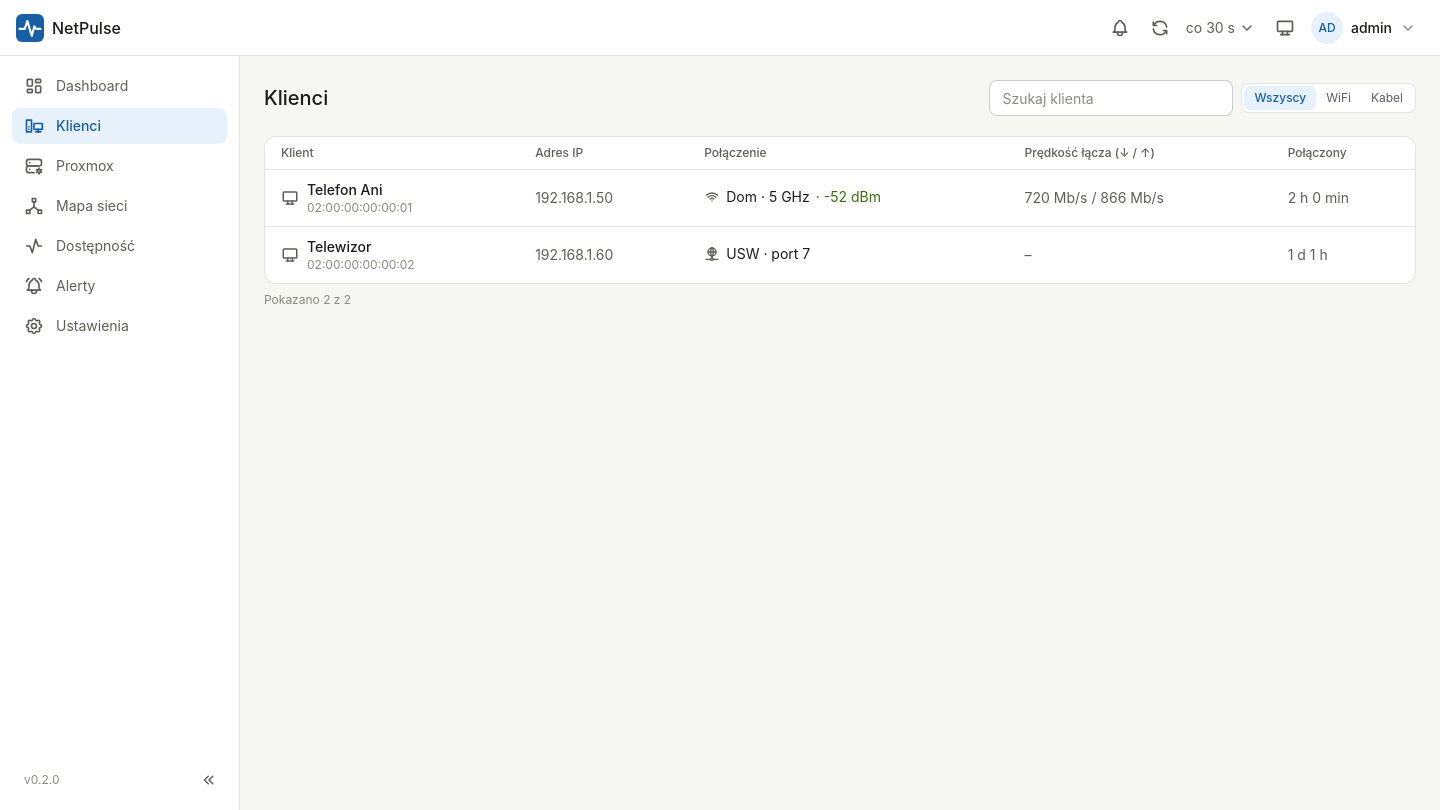
strona Klienci › filtruje po rodzaju połączenia i po wyszukiwanej frazie
Expected: the row "Telewizor" is shown, [265,226,1415,283]
Click the button "WiFi": (1339, 98) [1316,86,1361,110]
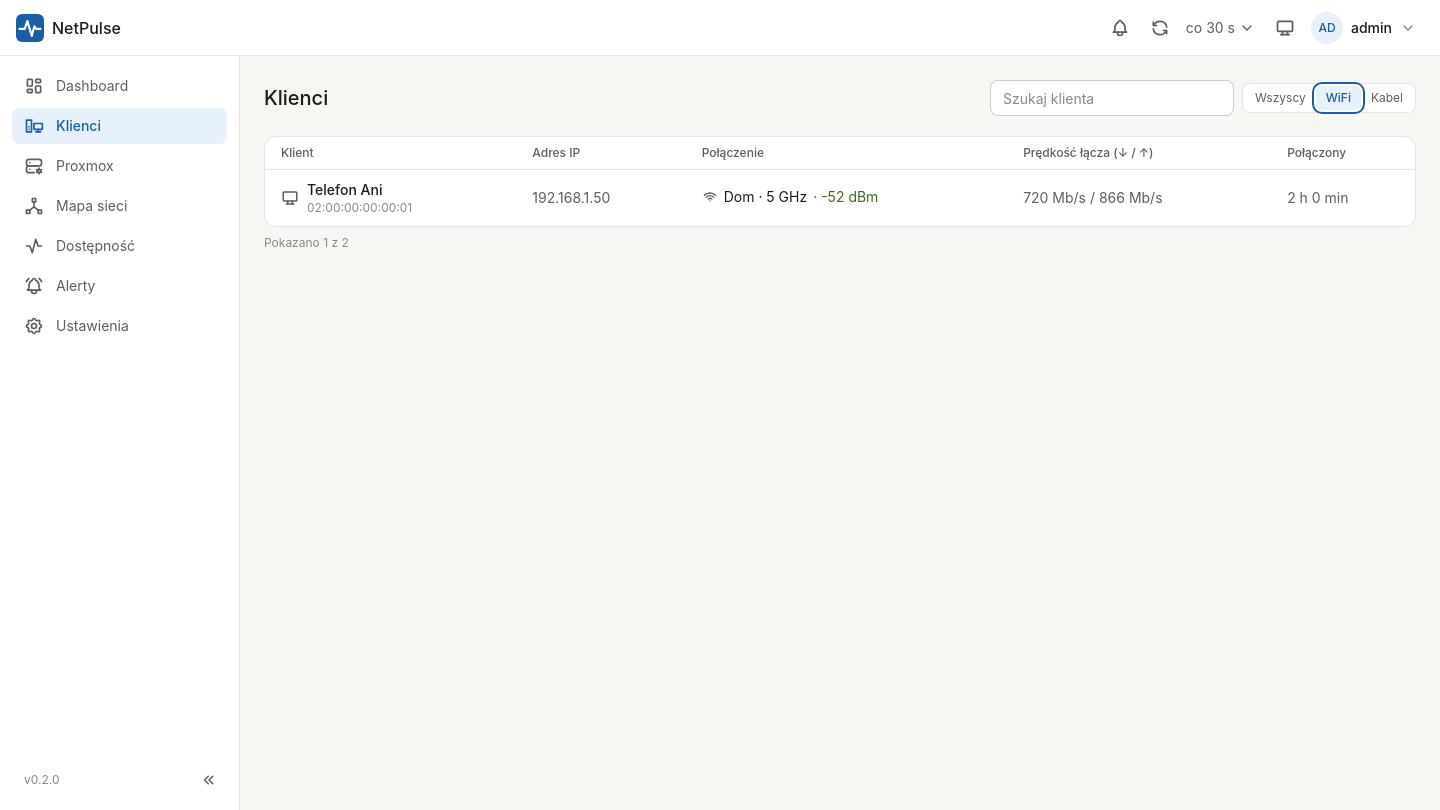
Expected: the row "Telefon Ani" is shown, [265,170,1415,226]
Expected: the link "Telewizor" is gone
Click the button "Wszyscy": (1280, 98) [1245,86,1316,110]
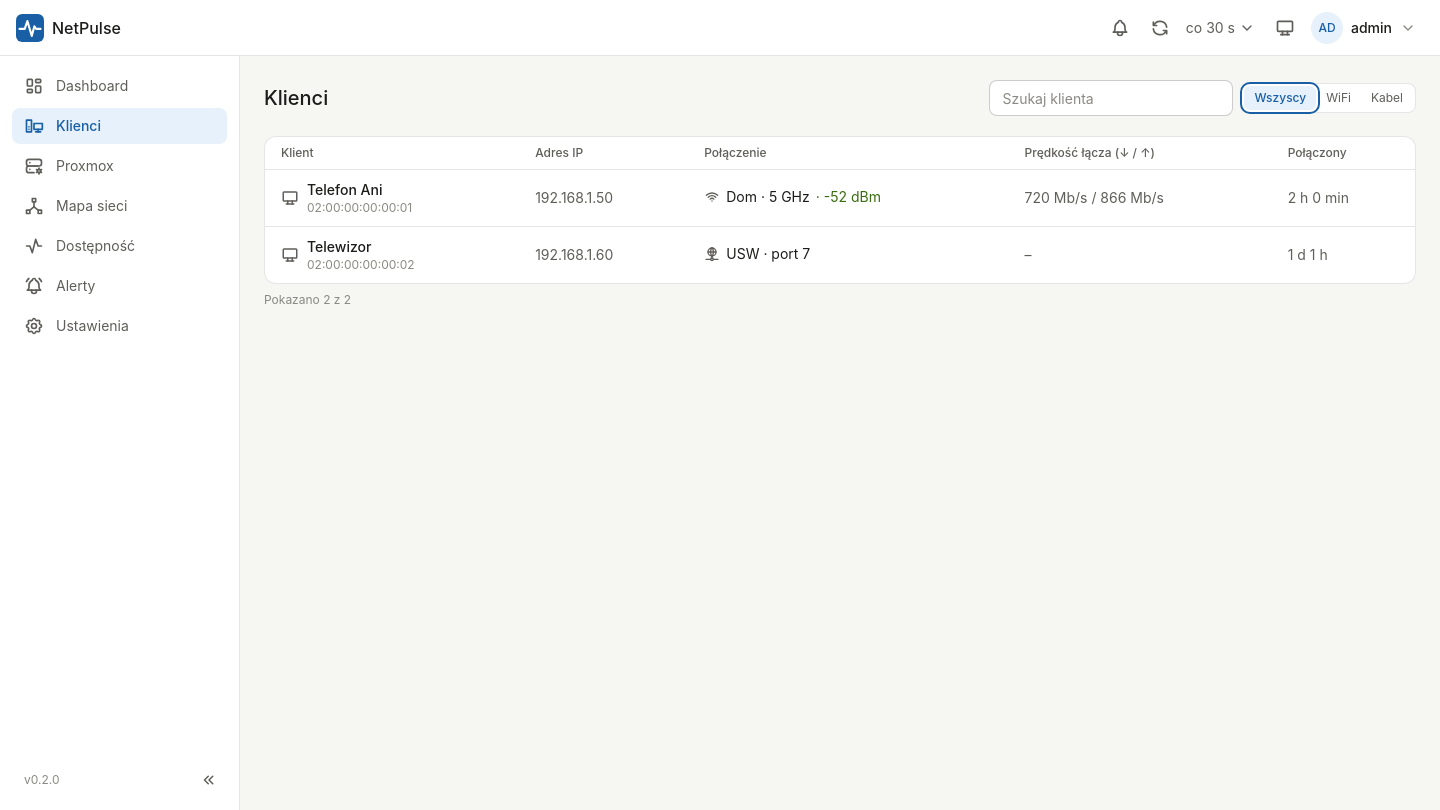
In the search field labelled "Szukaj klienta": (1111, 98) [989,80,1233,116], type "192.168.1.60"
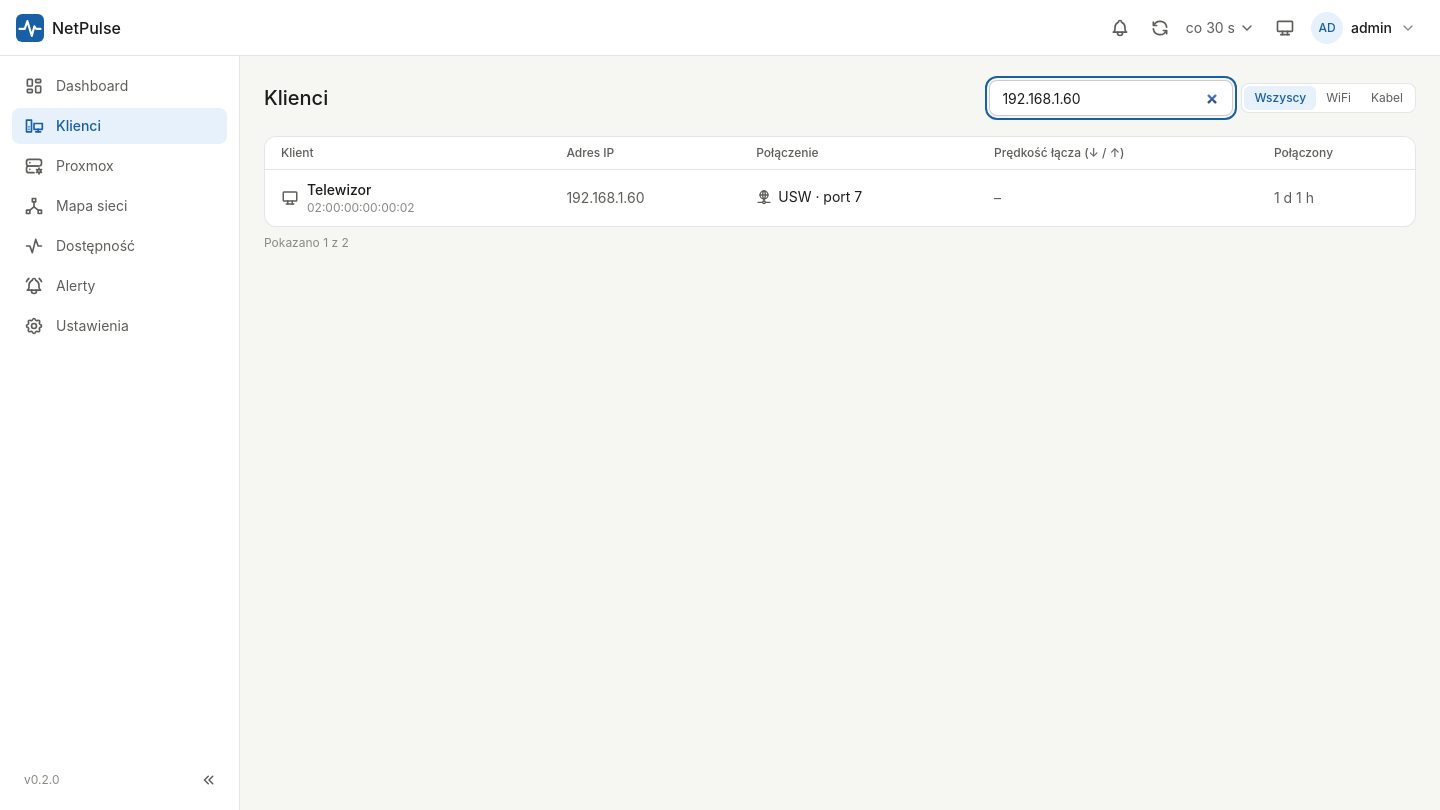
Expected: the row "Telewizor" is shown, [265,170,1415,226]
Expected: the link "Telefon Ani" is gone
